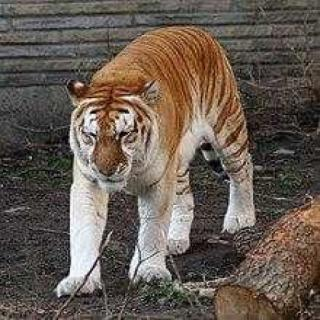Tiger: (53, 18, 256, 290)
